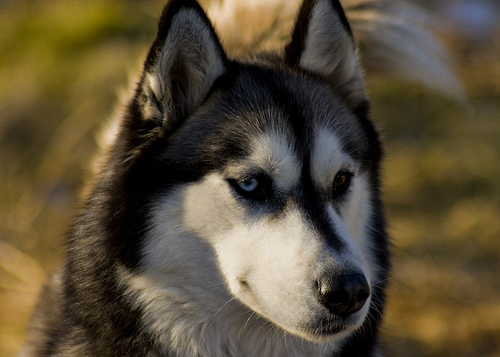dog: (23, 2, 389, 355)
